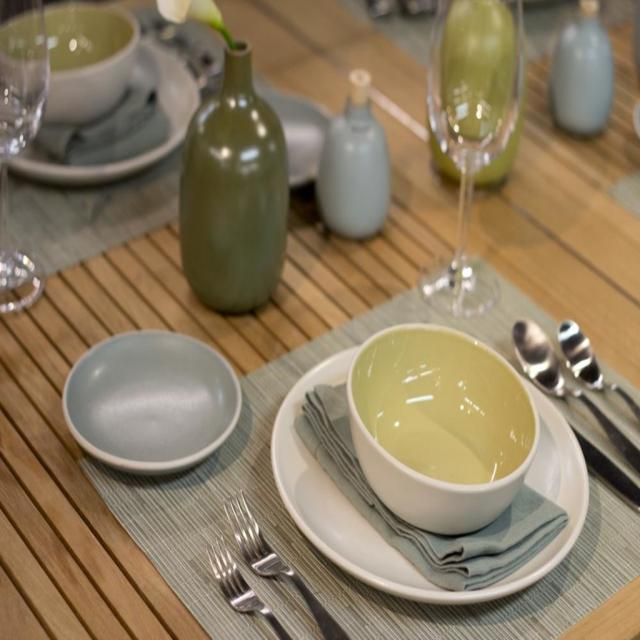non-organic waste: (271, 315, 596, 640)
